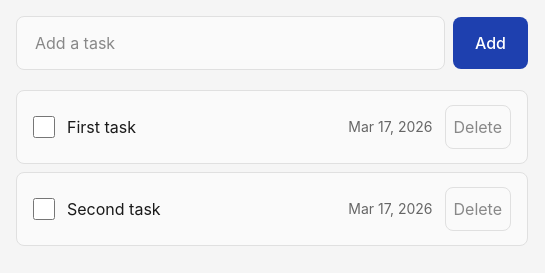
Test: TaskList › only one task in edit mode at a time: starting edit on second exits first
Click the button with aria-label "edit task: first task": (102, 127) [67,115,336,139]
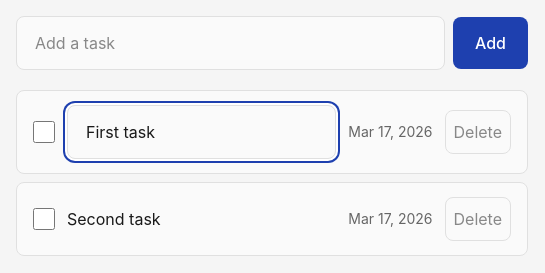
Expected: the field named "edit task description" holds "First task", [67,105,336,159]
Click the button with aria-label "edit task: second task": (114, 219) [67,207,336,231]
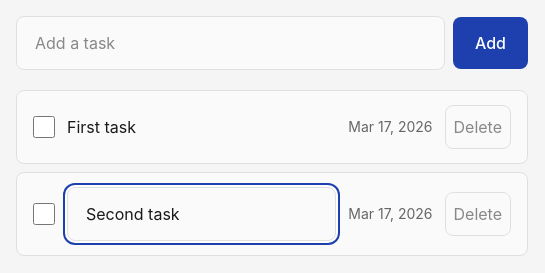
Expected: the number of fields named "edit task description" is 1, [67,187,336,241]
Expected: the field named "edit task description" holds "Second task", [67,187,336,241]
